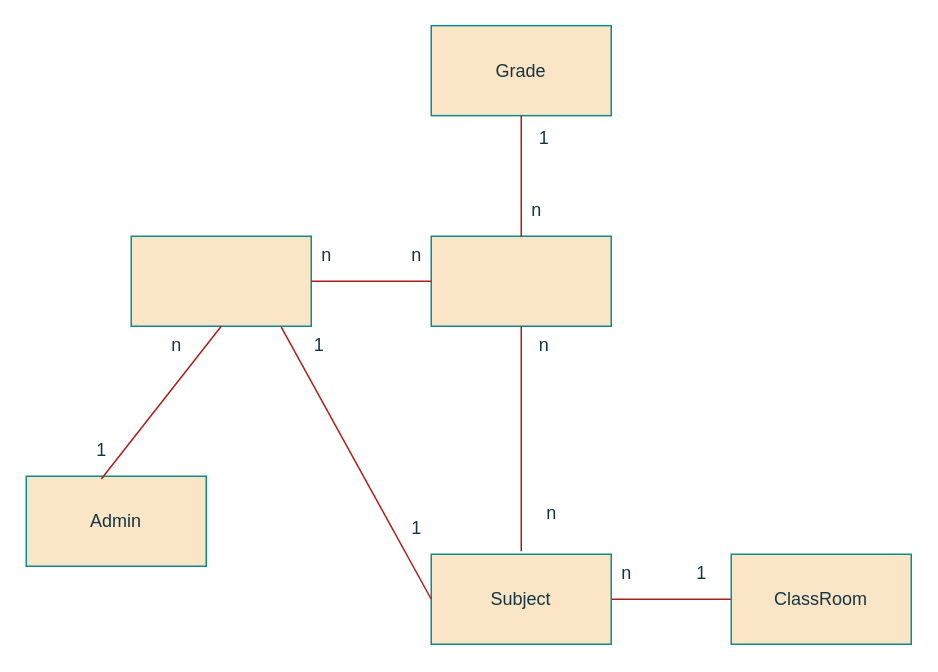
The diagram is 938 pixels wide and 672 high, and some of its shapes have lost their labels. Each missing label, with the centre of its shape:
Student: [520,280]
Teacher: [220,280]
